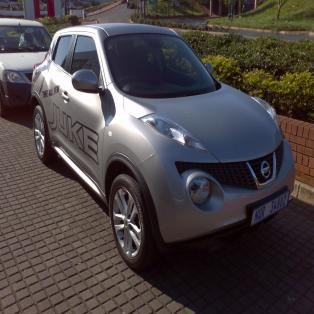Auto: (29, 22, 295, 271)
